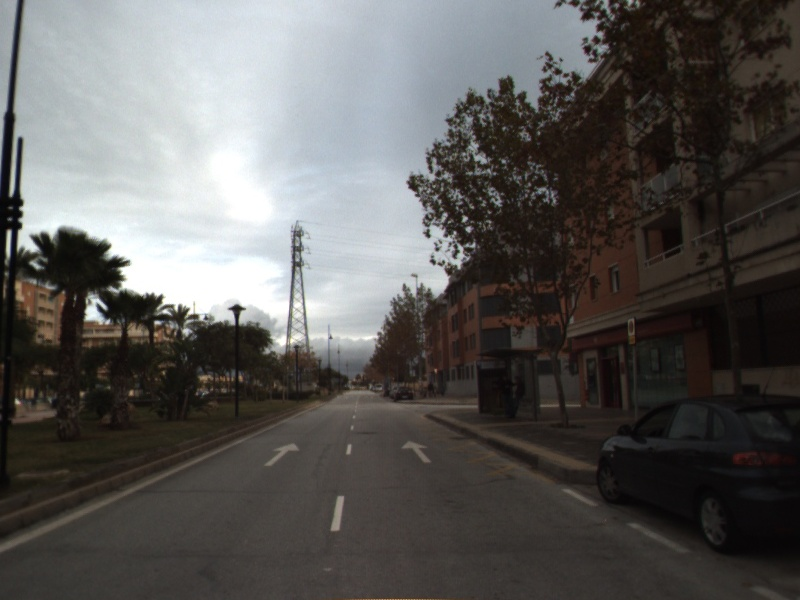STRAIGHT: (262, 441, 302, 468), (399, 439, 433, 464)
